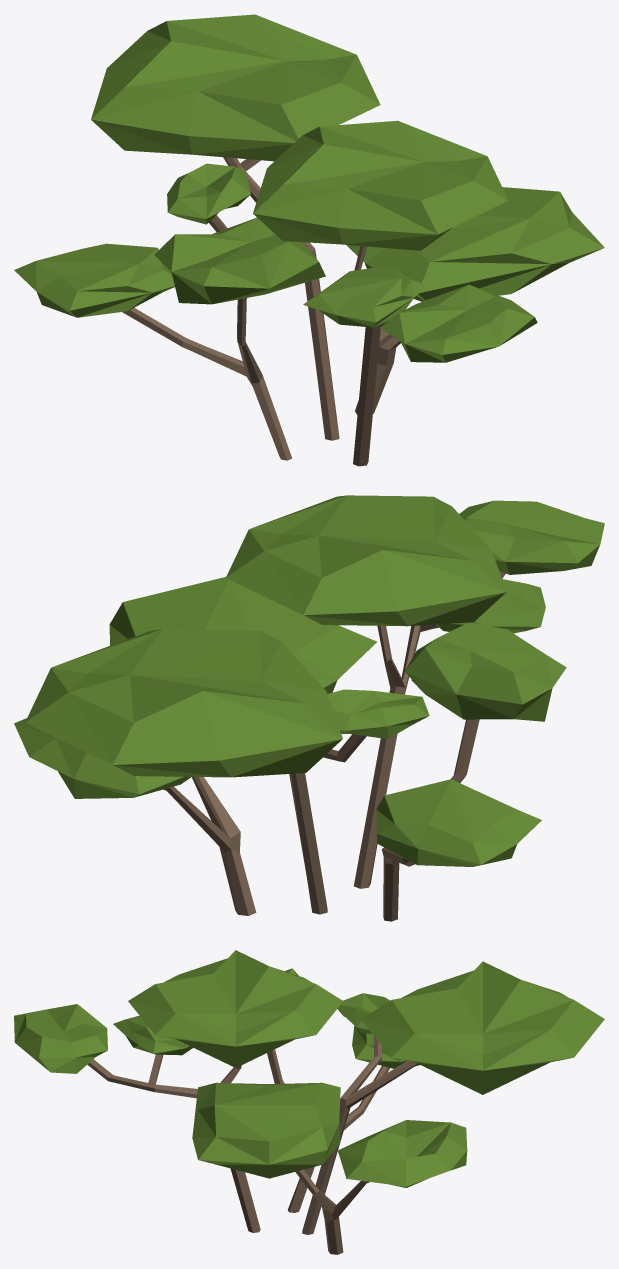
File: Bush_2.fbx
3 renders of one model, top to bottom at view 1: azimuth 30°, elevation 25°; view 2: azimuth 150°, elevation 25°; view 3: azimuth 270°, elevation 25°, orthographic. The views are drawn at different scales.
Visible parts, largest first — view 1: Bush_2; view 2: Bush_2; view 3: Bush_2.
Part boxes in pixels (<box>): Bush_2: <box>14,14,604,466</box>; Bush_2: <box>14,495,604,921</box>; Bush_2: <box>14,950,604,1254</box>.
Size of the model in its own units: 163 by 230 by 109.
